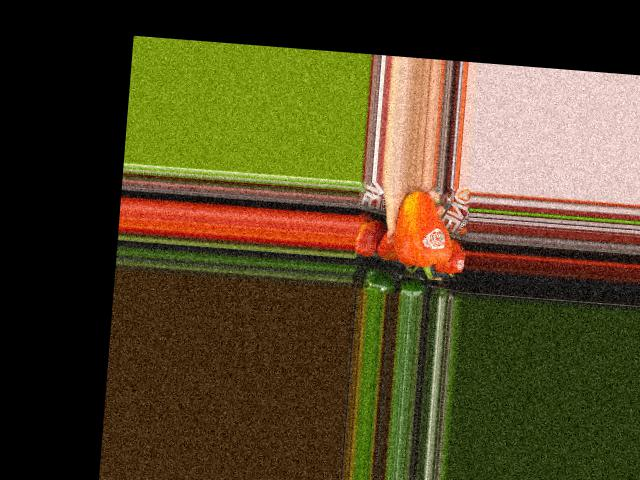bell_pepper: (385, 190, 458, 282)
